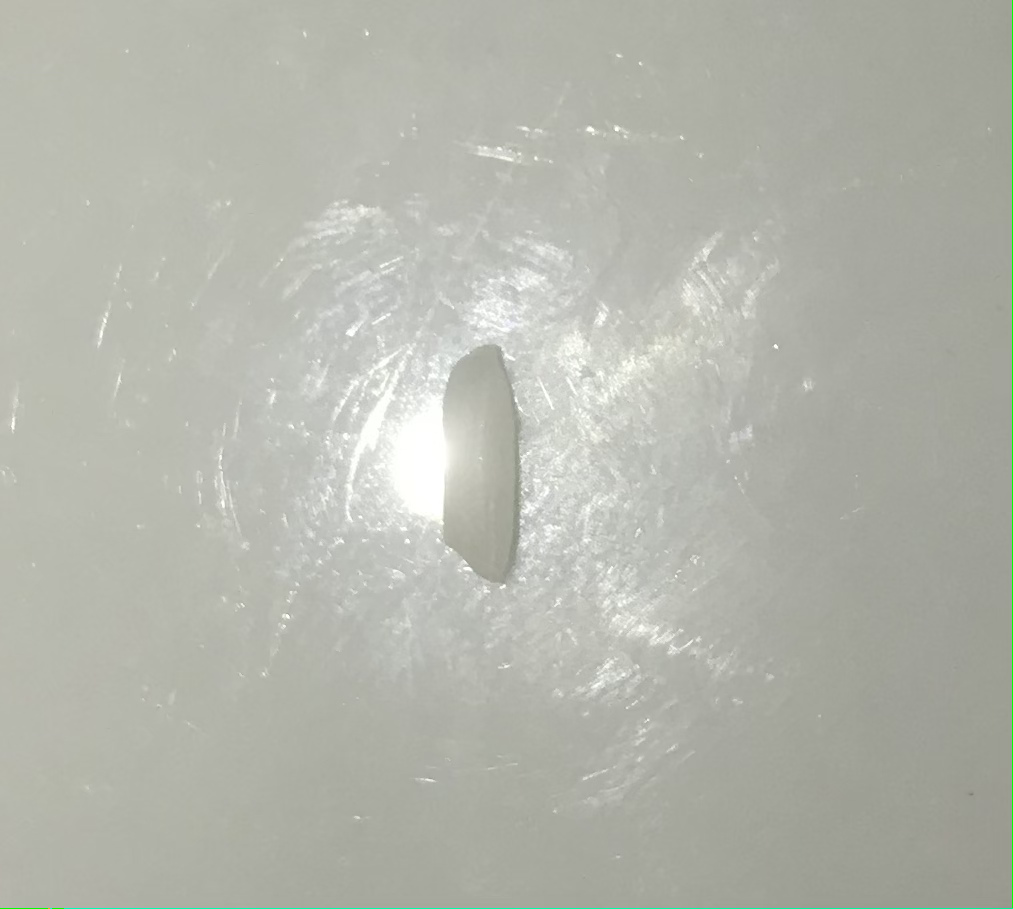Gao Thom Go Cong: (422, 342, 554, 594)
